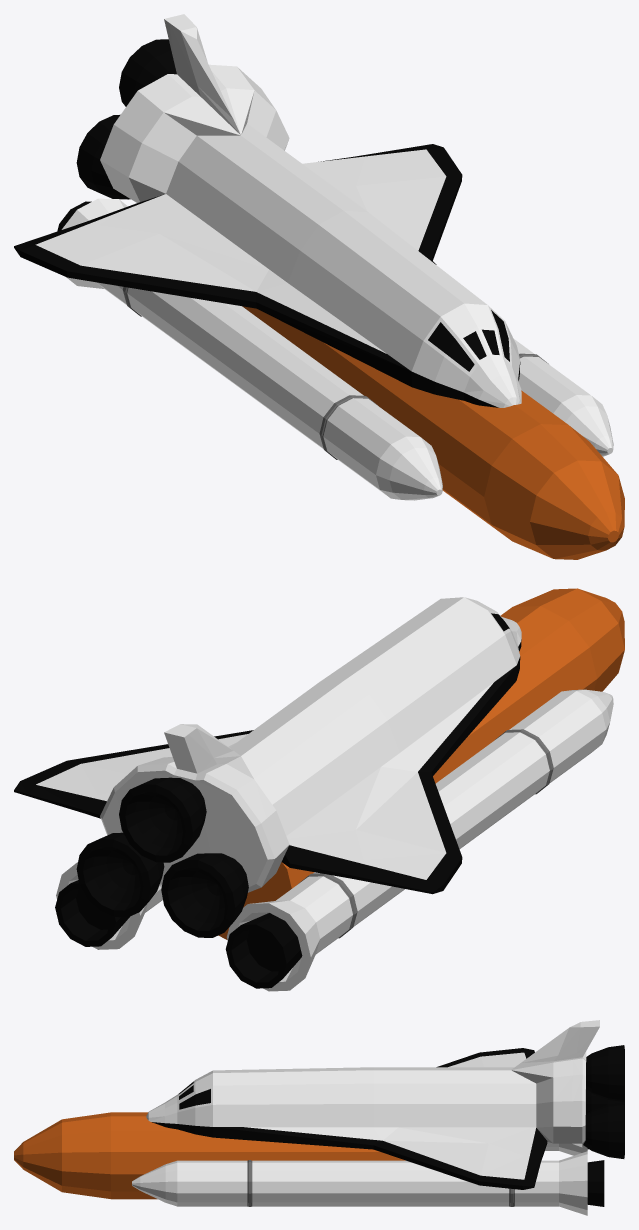
3 views of the same model, one above another, from view 1: azimuth 30°, elevation 25°; view 2: azimuth 150°, elevation 25°; view 3: azimuth 270°, elevation 25° (orthographic). The views are drawn at different scales.
Visible parts, largest first — view 1: Rocket_Ship; view 2: Rocket_Ship; view 3: Rocket_Ship.
Part boxes in pixels (x1=…): Rocket_Ship: x1=14, y1=14, x2=624, y2=559; Rocket_Ship: x1=14, y1=588, x2=624, y2=991; Rocket_Ship: x1=14, y1=1020, x2=624, y2=1215.
Bounding box in the file's own units: 48.73 × 28.32 × 91.23.
1 material, 1 textured.
